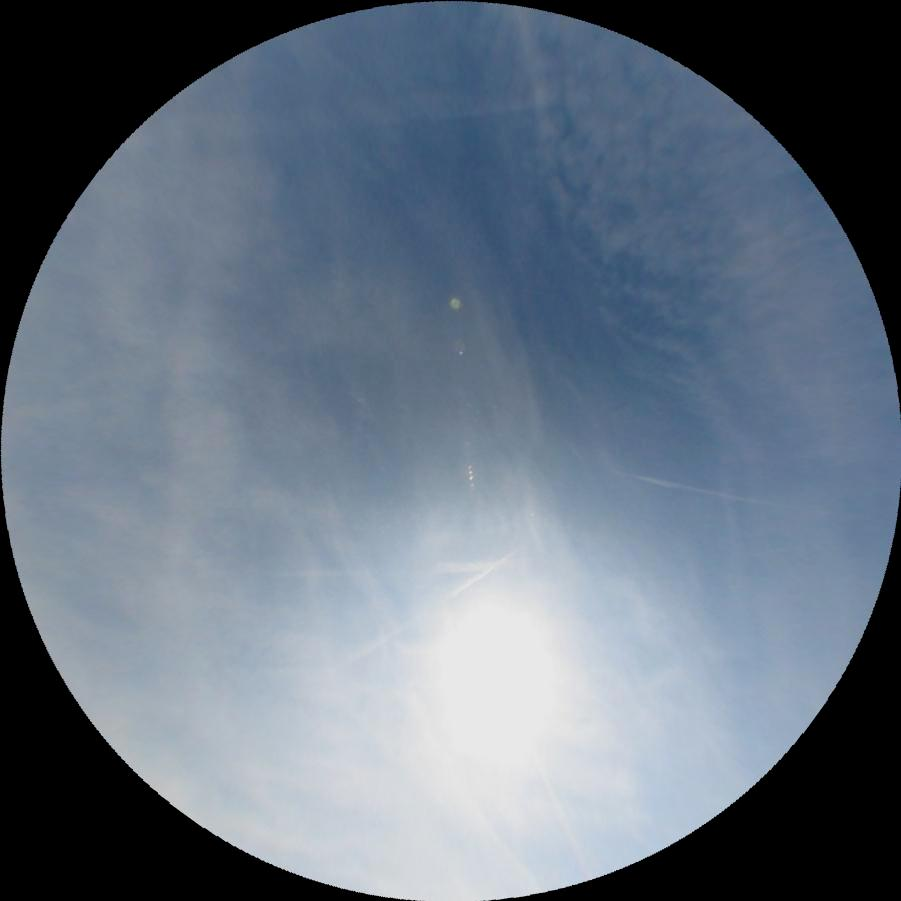contrail old: (341, 548, 518, 670), (616, 470, 770, 506)
contrail veryold: (177, 76, 535, 150), (269, 559, 499, 579)
parasite: (519, 728, 592, 878)
sun: (427, 587, 584, 738)
